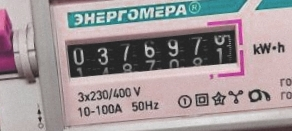0: (70, 45, 85, 66)
1: (213, 45, 226, 64)
3: (94, 44, 109, 65)
6: (141, 36, 156, 58)
7: (117, 40, 132, 62), (189, 33, 203, 56)
9: (165, 36, 179, 58)
screen: (56, 12, 251, 95)
